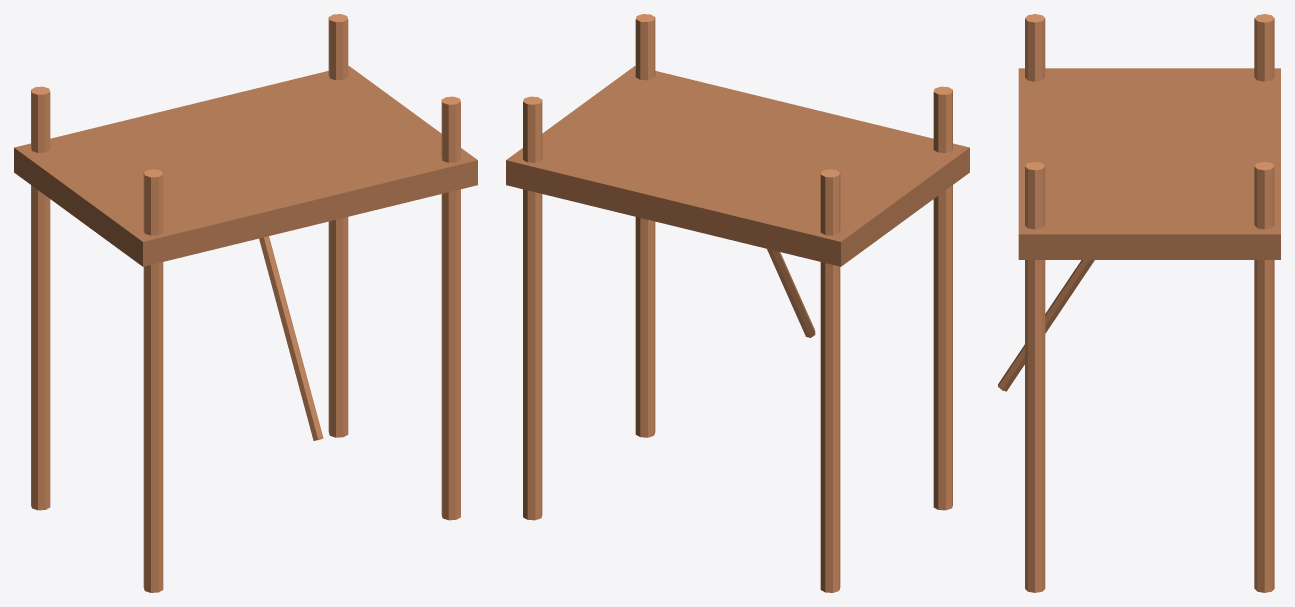
3 renders of one model, left to right at view 1: azimuth 30°, elevation 25°; view 2: azimuth 150°, elevation 25°; view 3: azimuth 270°, elevation 25°, orthographic.
Parts seen in each view (by area): view 1: worldgen; view 2: worldgen; view 3: worldgen.
Part boxes in pixels (left/top/right/bottom): worldgen: left=14, top=14, right=477, bottom=592; worldgen: left=506, top=14, right=969, bottom=592; worldgen: left=998, top=14, right=1280, bottom=592.
Size of the model in its own units: 54 by 64 by 38.84.
